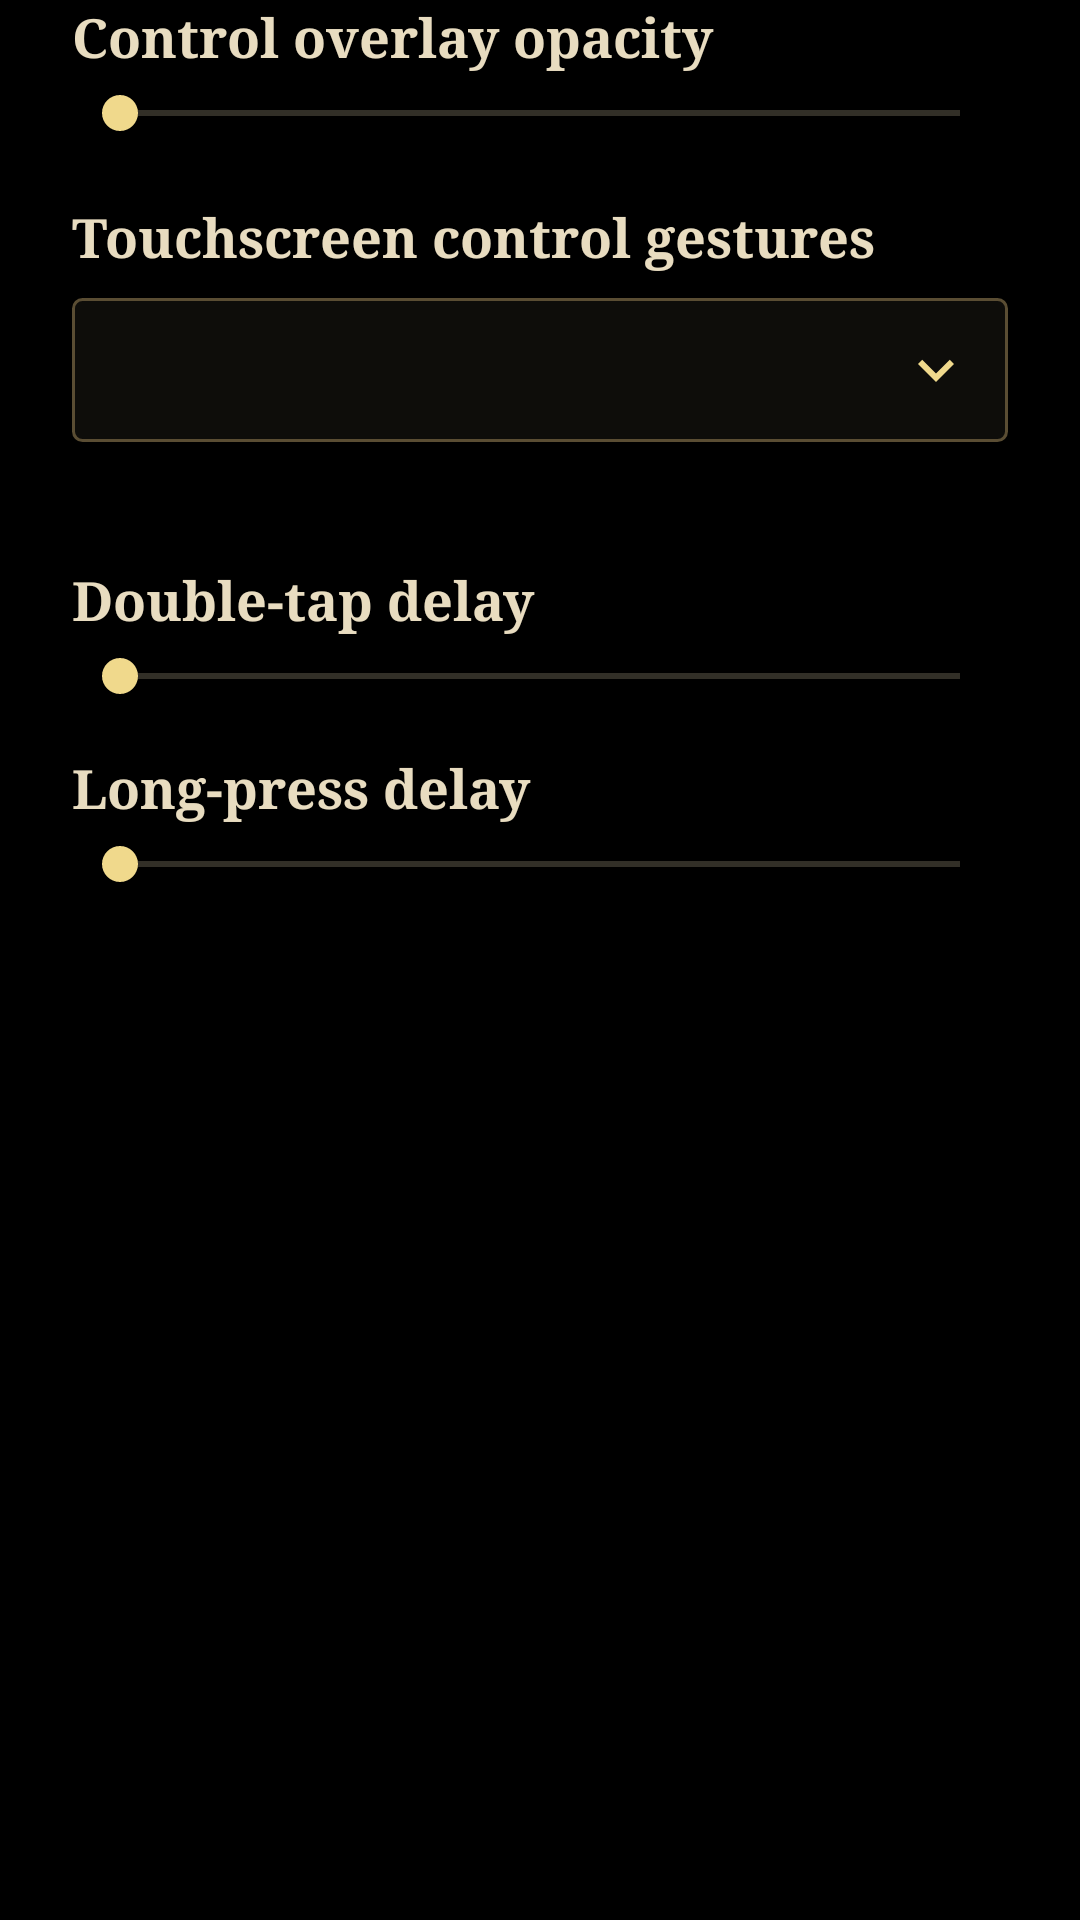

Screen size 1080 x 1920. Icon name, then its box in pixels as (x1, y1, x2, y2):
expand more: (918, 360, 954, 382)
